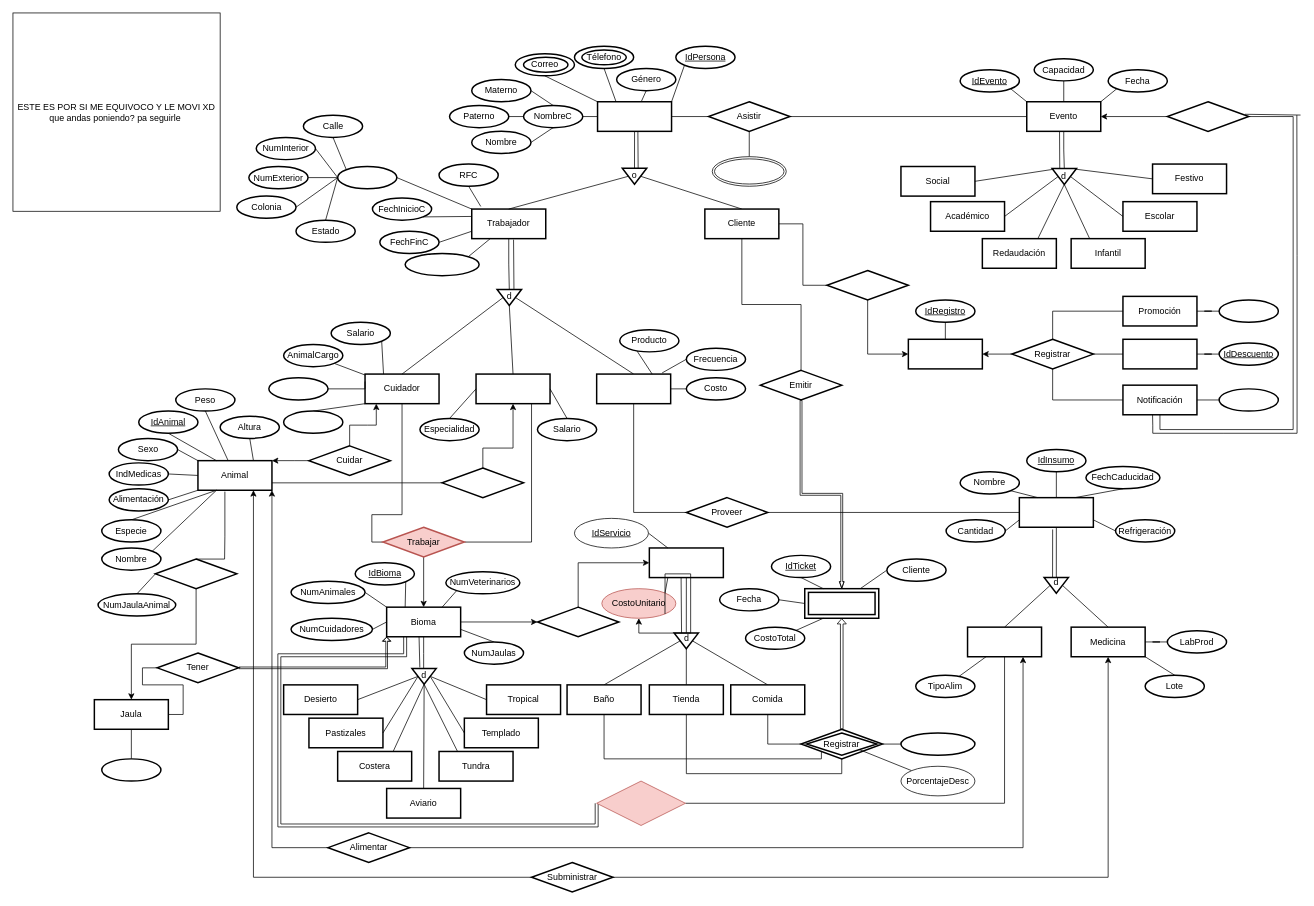
This 1314x906 diagram has some shape labels left out. The shapes that lost their labels are listed below. From the top down, each one's box as (x1, y1, x2, y2) in pixels, then its label:
(596, 101, 672, 132): Persona
(1166, 101, 1249, 132): Asociar
(337, 165, 397, 189): Dirección
(712, 156, 786, 186): Asistencia
(404, 252, 480, 276): FechNacimiento
(826, 269, 909, 300): Notificar
(1218, 299, 1279, 323): IdPromoción
(907, 338, 983, 369): Registro
(1122, 338, 1197, 369): Descuento
(268, 377, 328, 400): DiasTrabajo
(475, 373, 550, 404): Veterinario
(596, 373, 671, 404): Proveedor
(1218, 388, 1279, 411): IdNotificación
(283, 410, 343, 434): Horario
(441, 467, 524, 498): Atender
(1018, 497, 1094, 528): Insumo
(154, 558, 237, 589): Pertenecer
(648, 547, 724, 578): Servicio
(536, 606, 619, 637): Ofrecer
(804, 588, 879, 619): Ticket
(966, 626, 1042, 657): Alimento
(900, 732, 975, 756): ServicioOfrecido
(101, 758, 161, 781): IdJaula
(596, 780, 685, 825): Distribuir
